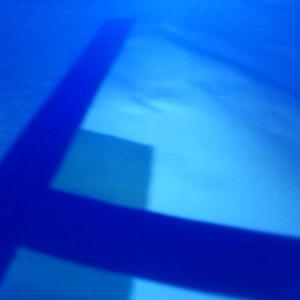bottom_right: (1, 214, 134, 300)
top_right: (23, 128, 153, 245)
